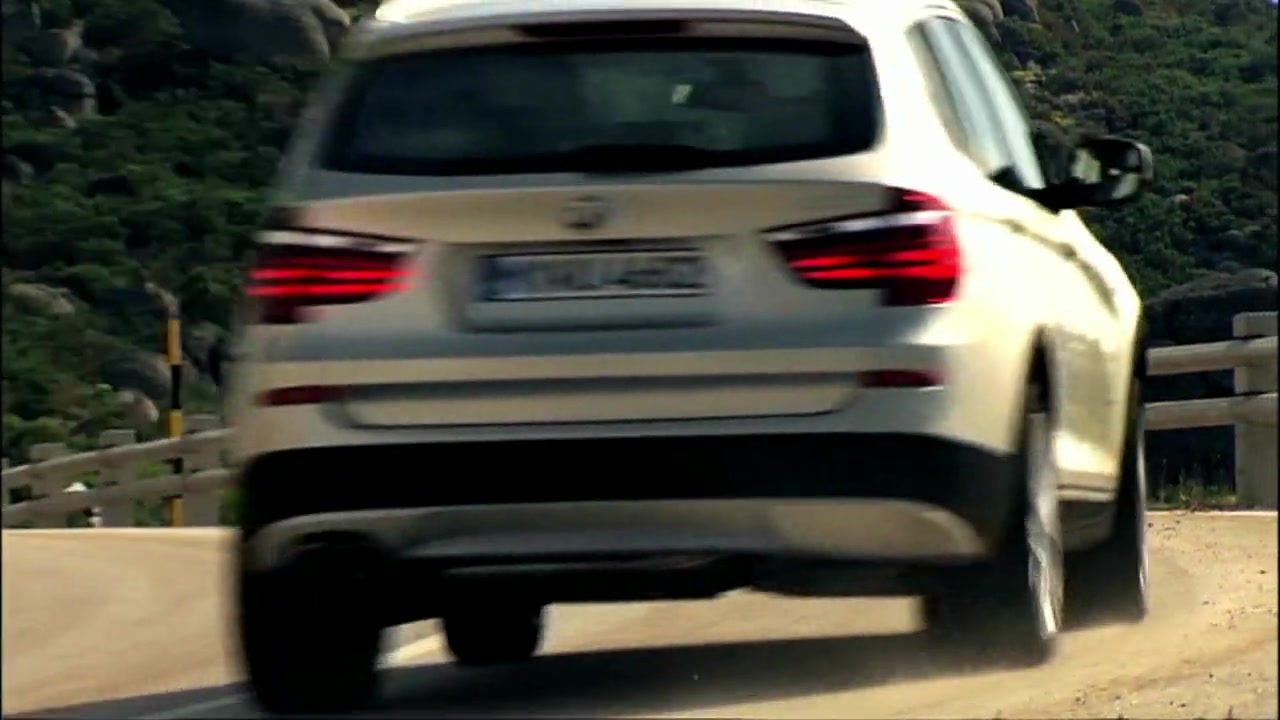car: (222, 3, 1158, 720)
